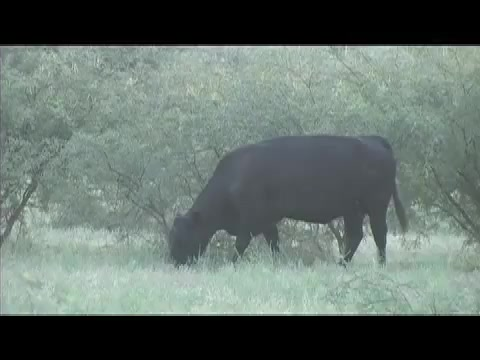cow: (168, 134, 409, 270)
